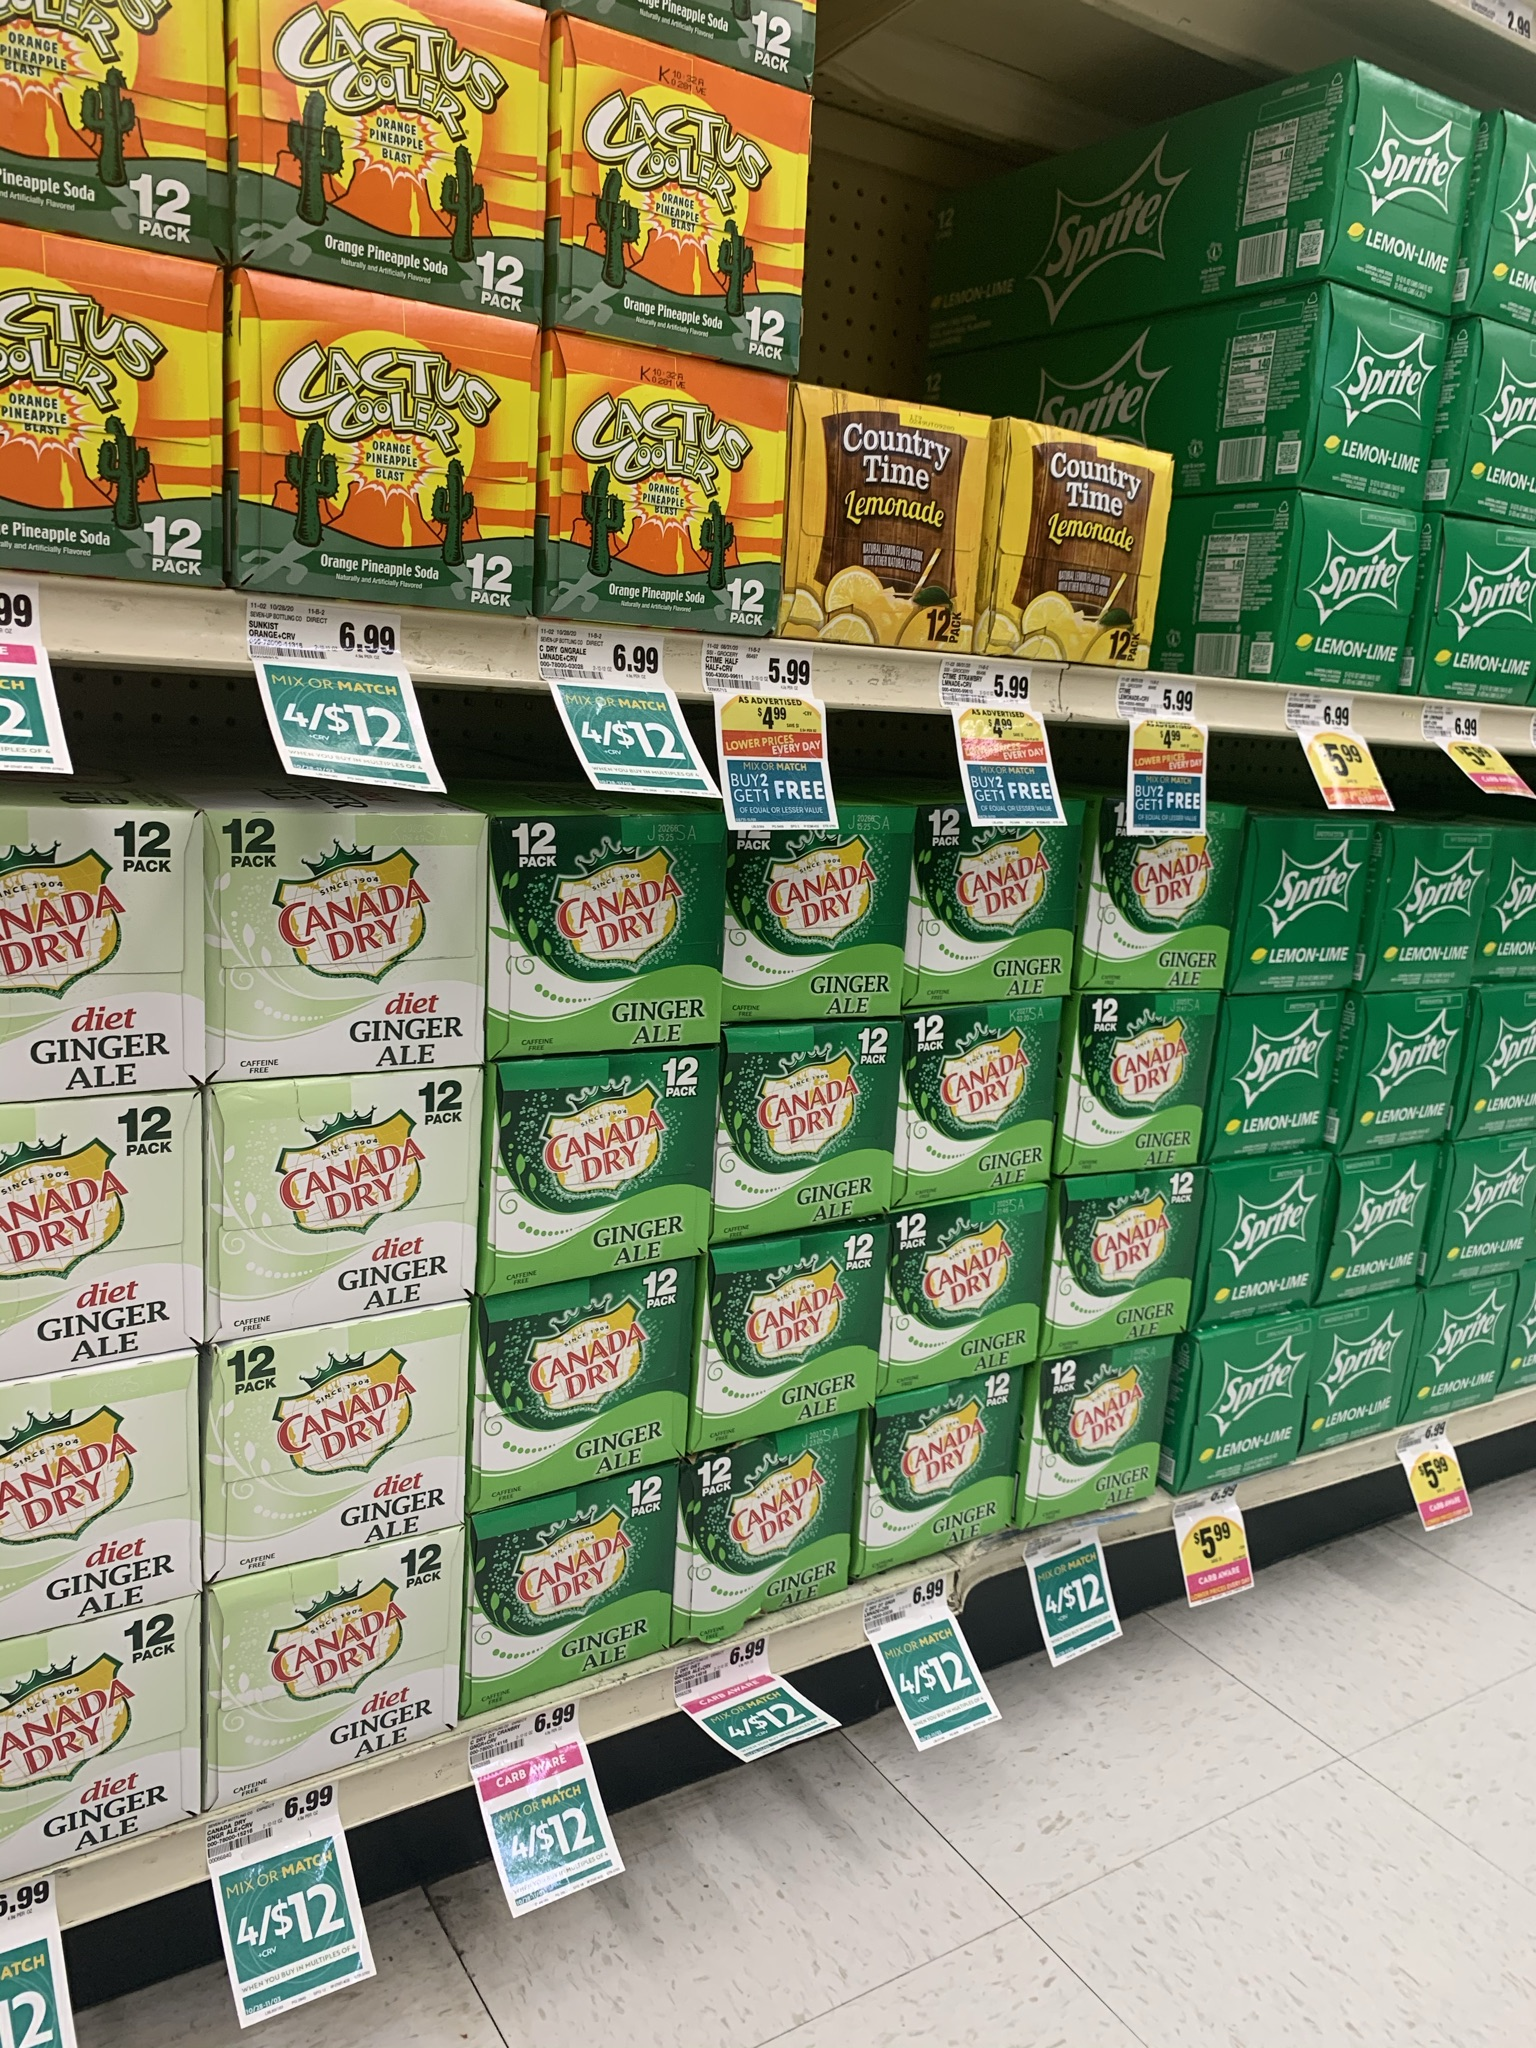cactus cooler: (239, 314, 537, 610), (252, 11, 542, 297), (561, 16, 802, 348), (3, 252, 211, 574), (547, 364, 797, 629)
canada dry soda: (210, 824, 466, 1756), (2, 826, 207, 1821), (908, 1259, 1175, 1521), (511, 830, 724, 1034), (497, 1071, 697, 1234), (752, 829, 907, 1016), (494, 1319, 689, 1456), (733, 1050, 899, 1209), (920, 829, 1078, 992), (1102, 810, 1220, 969), (925, 1039, 1057, 1171), (716, 1279, 870, 1388), (1097, 1011, 1208, 1159), (899, 1229, 937, 1251)
sprite soda: (1399, 842, 1525, 1385), (1338, 84, 1457, 334), (1320, 302, 1433, 498), (1299, 506, 1404, 676), (1263, 830, 1359, 992), (1217, 1179, 1317, 1292), (1242, 1016, 1326, 1135), (1347, 1176, 1438, 1271), (1212, 1351, 1297, 1451), (1317, 1311, 1412, 1371)
